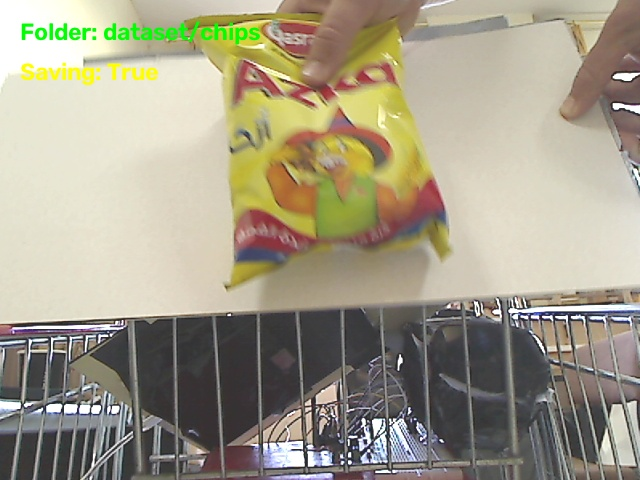chips: (186, 14, 448, 285)
